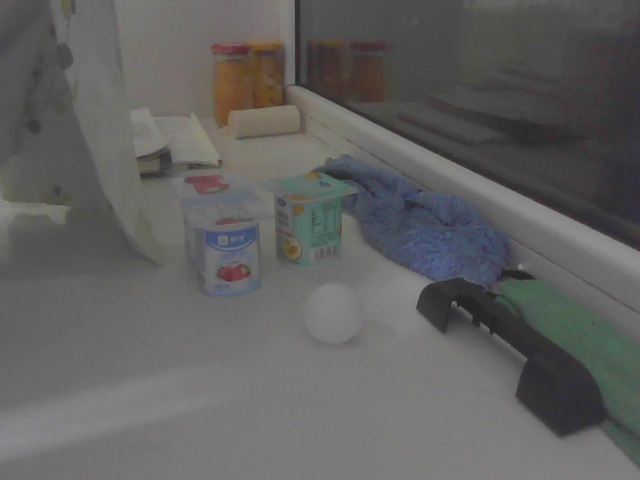ball: (303, 279, 368, 344)
